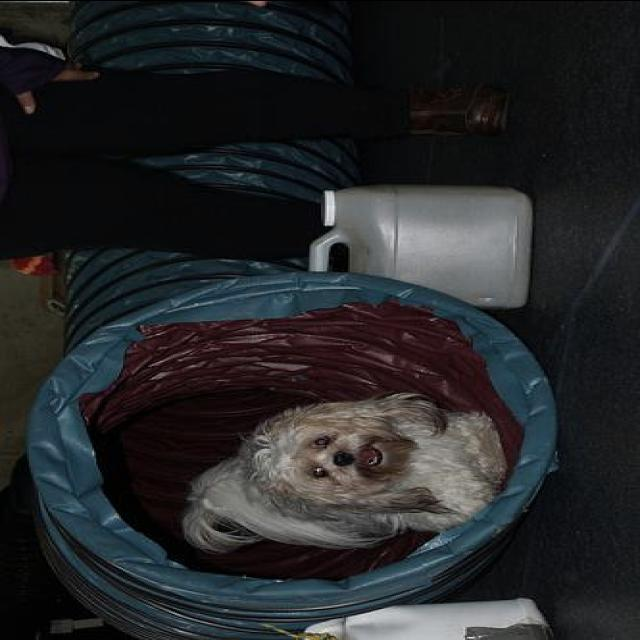shih_tzu: (178, 387, 504, 550)
